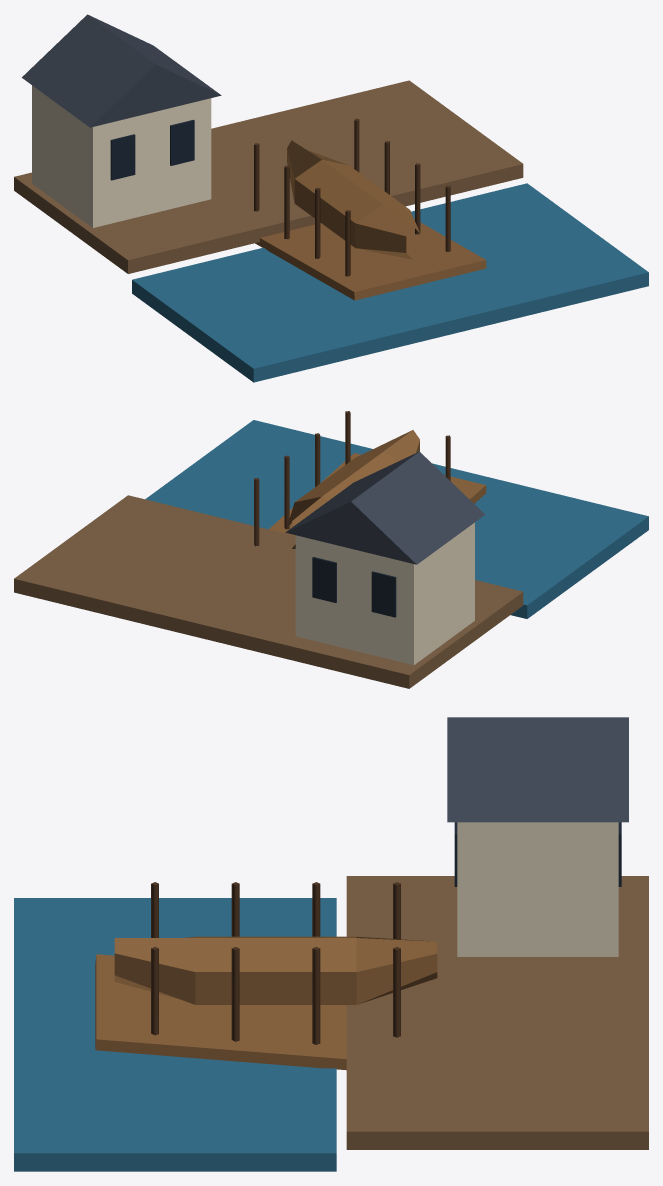
The model's file is bld_special_shipyard_a03.glb.
3 renders of one model, top to bottom at view 1: azimuth 30°, elevation 25°; view 2: azimuth 150°, elevation 25°; view 3: azimuth 270°, elevation 25°, orthographic. The views are drawn at different scales.
Parts seen in each view (by area): view 1: body; view 2: body; view 3: body.
Boxes of the visible parts, <box> form: body: <box>14,14,648,382</box>; body: <box>14,411,648,688</box>; body: <box>14,717,648,1171</box>.
Size of what is drawn, in the model's own units: 15 by 6.61 by 15.75.
